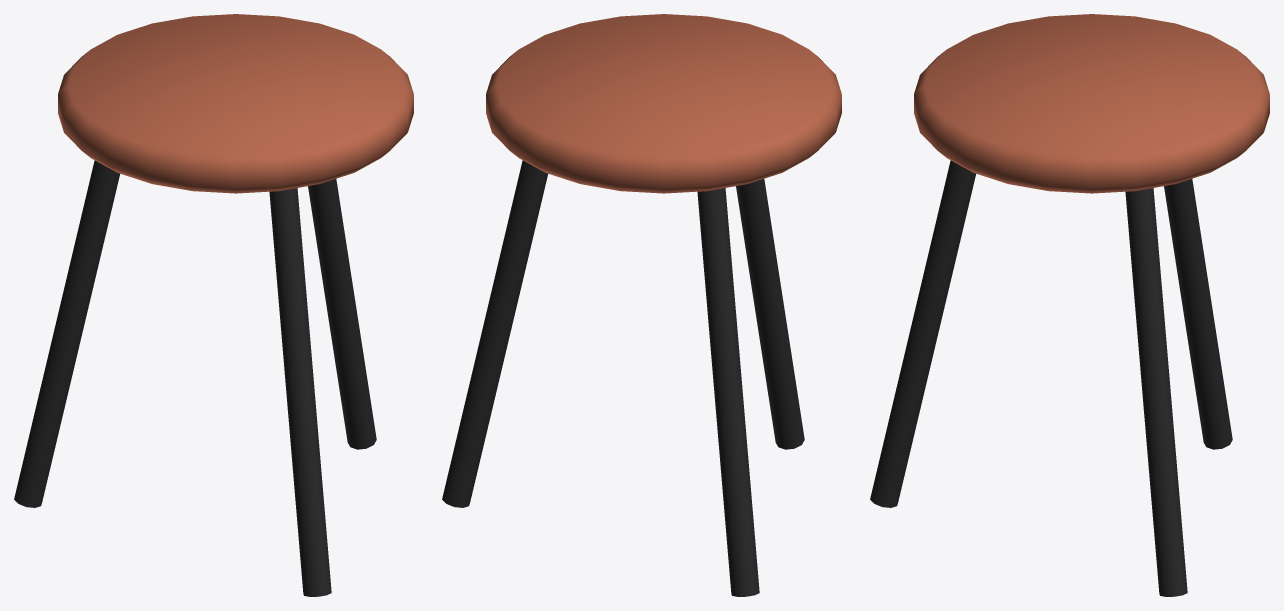
File: i_stool_2.glb
3 renders of one model, left to right at view 1: azimuth 30°, elevation 25°; view 2: azimuth 150°, elevation 25°; view 3: azimuth 270°, elevation 25°, orthographic.
Parts seen in each view (by area): view 1: o.003, o.002, o.001, o; view 2: o.003, o.001, o, o.002; view 3: o.003, o, o.002, o.001.
Part boxes in pixels (<box>): o.003: <box>58,14,413,193</box>; o.002: <box>269,188,331,596</box>; o.001: <box>14,160,119,507</box>; o: <box>308,179,376,449</box>; o.003: <box>486,14,841,193</box>; o.001: <box>697,188,759,596</box>; o: <box>442,160,547,507</box>; o.002: <box>736,179,804,449</box>; o.003: <box>914,14,1269,193</box>; o: <box>1125,188,1187,596</box>; o.002: <box>870,160,975,507</box>; o.001: <box>1164,179,1232,449</box>.
Bounding box in the file's own units: 0.3707 × 0.4528 × 0.3819.
